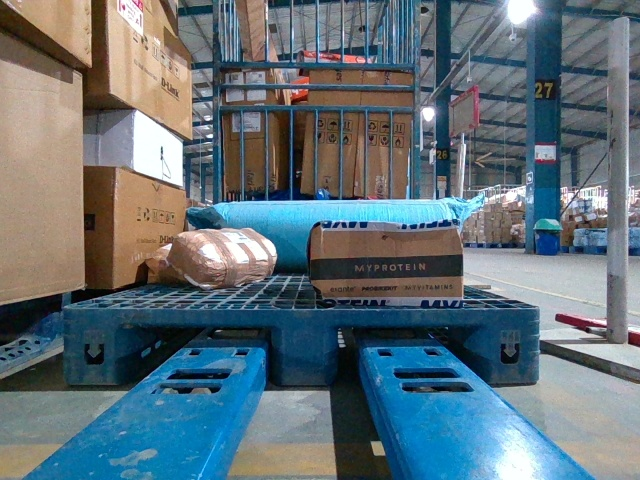block: (63, 306, 125, 389), (273, 307, 334, 386), (484, 301, 535, 388)
front: (64, 306, 537, 384)
hole pallet: (113, 317, 285, 388), (335, 318, 491, 385)
